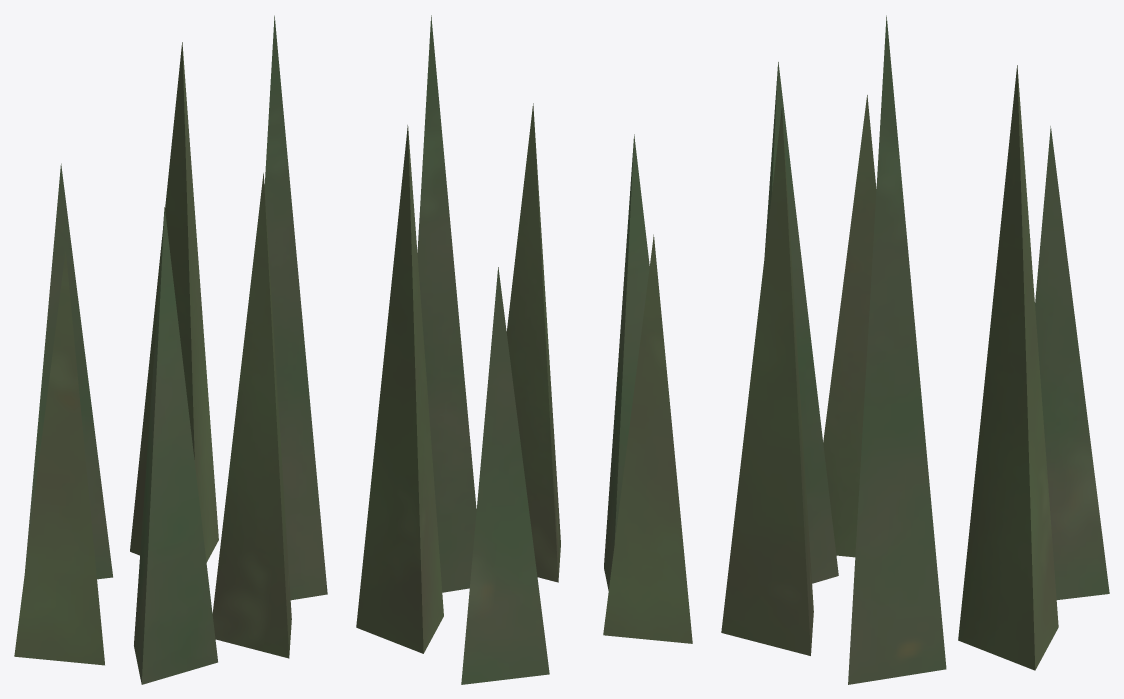
File: grama_tufo.glb
3 renders of one model, left to right at view 1: azimuth 30°, elevation 25°; view 2: azimuth 150°, elevation 25°; view 3: azimuth 270°, elevation 25°, orthographic. The views are drawn at different scales.
Visible parts, largest first — view 1: grama_tufo; view 2: grama_tufo; view 3: grama_tufo.
Boxes of the visible parts, x1,y1,x2,y2 form: grama_tufo: (14, 15, 327, 684); grama_tufo: (356, 15, 692, 684); grama_tufo: (721, 15, 1109, 684).
Bounding box in the file's own units: 0.1602 × 0.2955 × 0.1598.
Materials: 1 (1 with a texture image).
